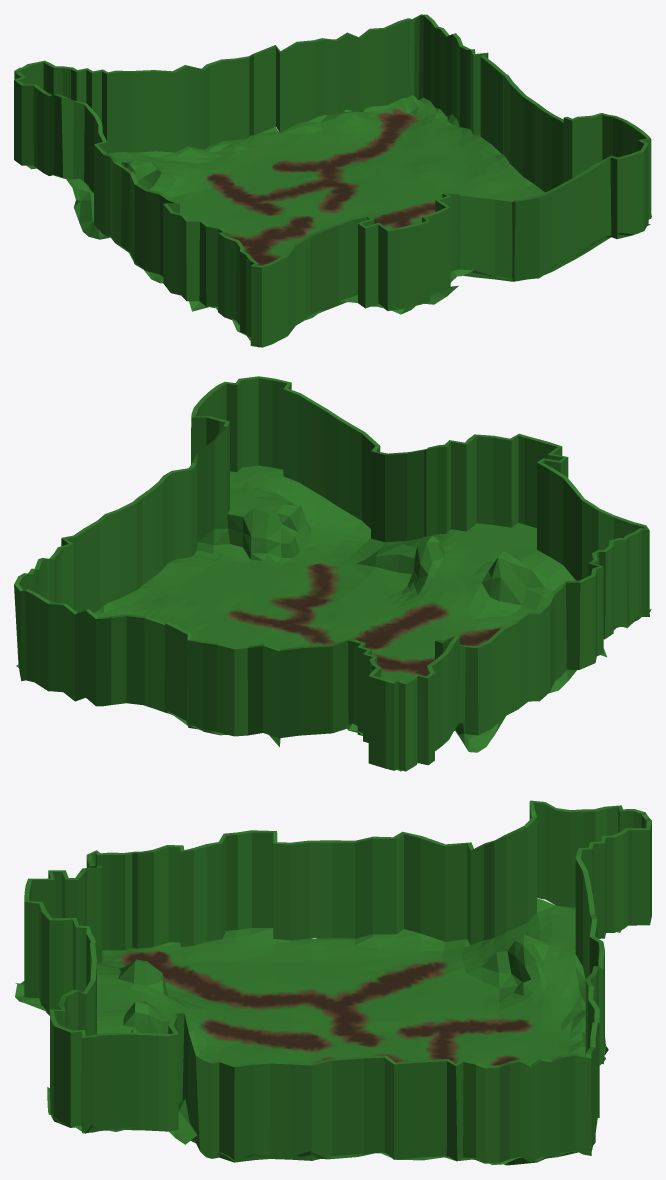
File: TerrainWallsE.v.2.15.fbx
3 views of the same model, one above another, from view 1: azimuth 30°, elevation 25°; view 2: azimuth 150°, elevation 25°; view 3: azimuth 270°, elevation 25° (orthographic). The views are drawn at different scales.
Visible parts, largest first — view 1: BSurfaceMesh.001, BSurfaceMesh; view 2: BSurfaceMesh.001, BSurfaceMesh; view 3: BSurfaceMesh.001, BSurfaceMesh.
Part boxes in pixels (<box>): BSurfaceMesh.001: <box>14,14,651,347</box>; BSurfaceMesh: <box>27,95,651,347</box>; BSurfaceMesh.001: <box>14,376,649,771</box>; BSurfaceMesh: <box>16,465,651,771</box>; BSurfaceMesh.001: <box>24,800,651,1163</box>; BSurfaceMesh: <box>15,898,621,1165</box>.
Size of the model in its own units: 89.17 by 24.75 by 98.81.
